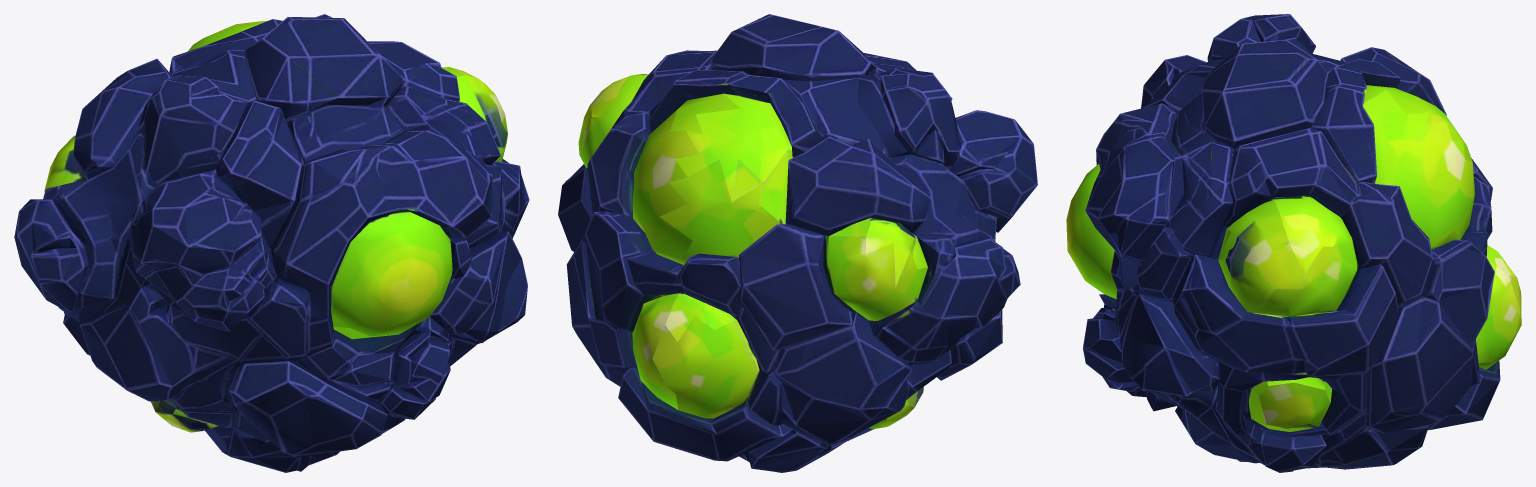
3 views of the same model, side by side, from view 1: azimuth 30°, elevation 25°; view 2: azimuth 150°, elevation 25°; view 3: azimuth 270°, elevation 25° (orthographic). The views are drawn at different scales.
Visible parts, largest first — view 1: output_unwrapped; view 2: output_unwrapped; view 3: output_unwrapped.
Part boxes in pixels (bbox=[...]): output_unwrapped: bbox=[14, 14, 529, 472]; output_unwrapped: bbox=[558, 14, 1037, 472]; output_unwrapped: bbox=[1066, 14, 1521, 472].
Bounding box in the file's own units: 1.9 × 1.68 × 1.69.
1 material, 1 textured.
